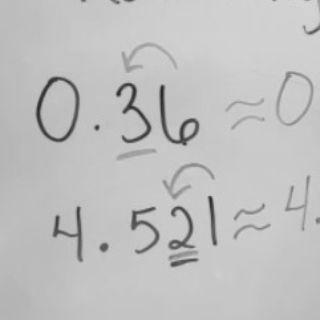.: (98, 238, 110, 254), (91, 121, 102, 134), (313, 214, 320, 223)
0: (35, 75, 82, 144), (272, 69, 316, 129)
1: (205, 190, 222, 248)
2: (168, 205, 199, 249)
3: (114, 79, 154, 145)
4: (52, 204, 86, 263), (284, 172, 311, 232)
5: (129, 205, 161, 257)
6: (158, 79, 198, 148)
